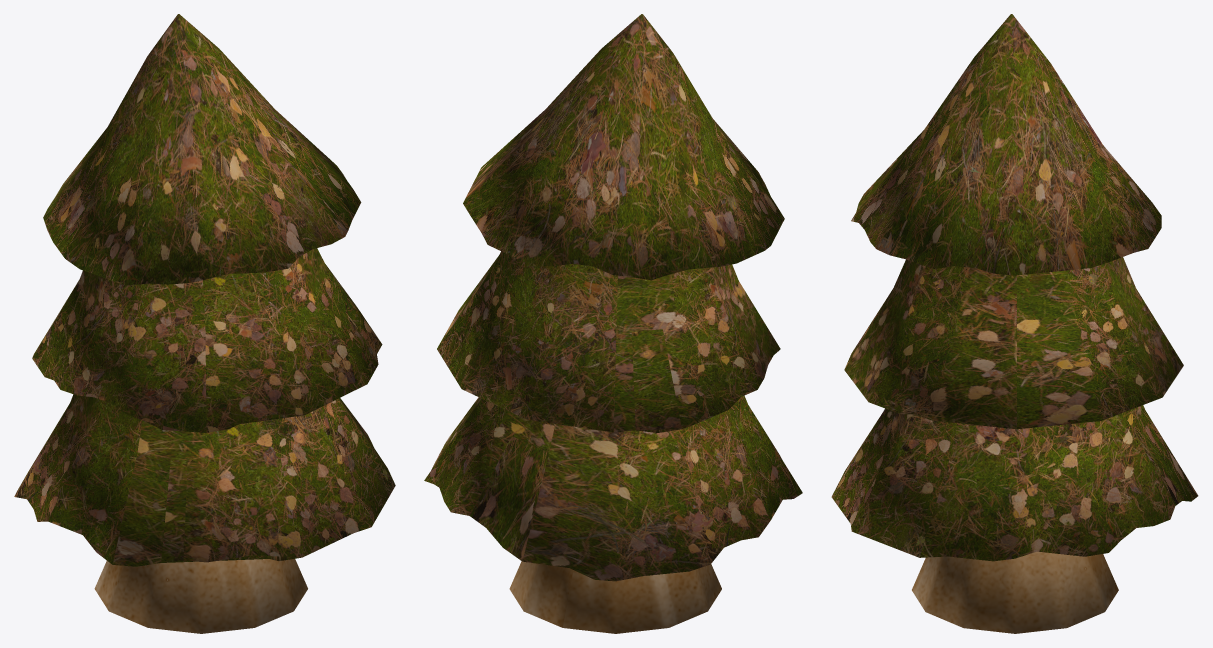
Rendered from pinetree.glb.
3 views of the same model, side by side, from view 1: azimuth 30°, elevation 25°; view 2: azimuth 150°, elevation 25°; view 3: azimuth 270°, elevation 25° (orthographic). The views are drawn at different scales.
Visible parts, largest first — view 1: Cylinder.003, Cylinder.001, Cylinder.002, Cylinder; view 2: Cylinder.003, Cylinder.001, Cylinder.002, Cylinder; view 3: Cylinder.003, Cylinder.002, Cylinder.001, Cylinder.
Part boxes in pixels (x1,y1,x2,y2): Cylinder.003: [43, 14, 361, 285]; Cylinder.001: [14, 394, 395, 566]; Cylinder.002: [32, 248, 382, 432]; Cylinder: [94, 559, 307, 633]; Cylinder.003: [463, 14, 784, 280]; Cylinder.001: [424, 395, 802, 581]; Cylinder.002: [437, 251, 780, 432]; Cylinder: [509, 561, 721, 633]; Cylinder.003: [851, 14, 1161, 275]; Cylinder.002: [844, 257, 1183, 429]; Cylinder.001: [831, 405, 1198, 561]; Cylinder: [912, 551, 1118, 633].
Size of the model in its own units: 3.47 by 6.01 by 3.54.
Materials: 3 (3 with a texture image).
